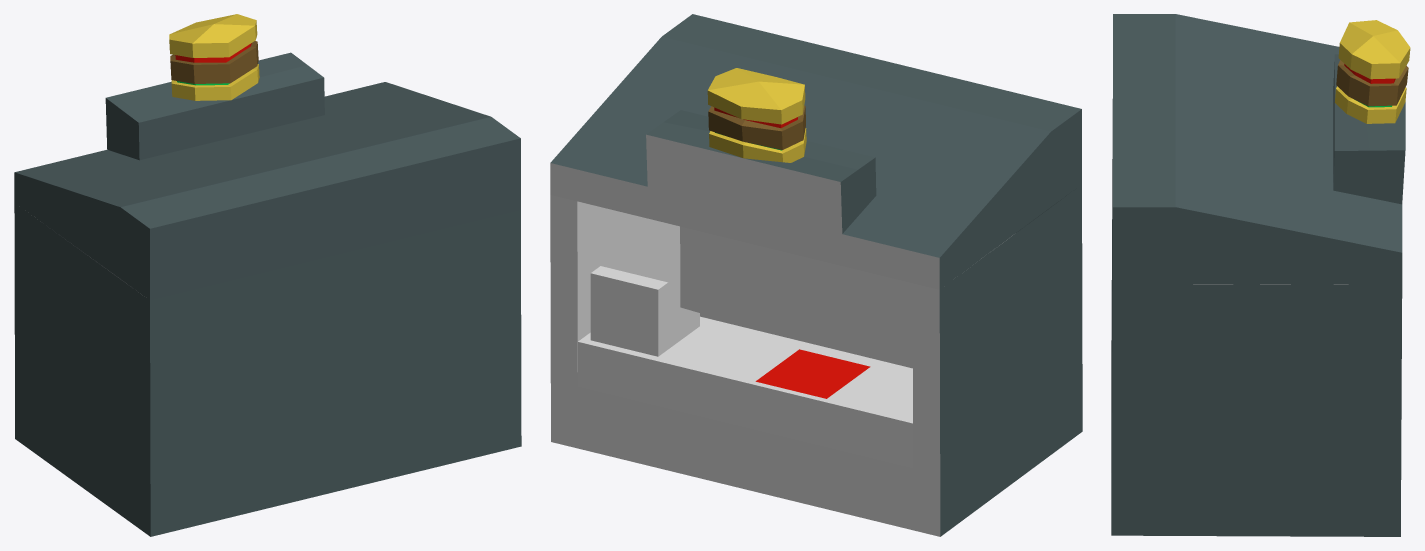
File: BurgerStand.fbx
3 renders of one model, left to right at view 1: azimuth 30°, elevation 25°; view 2: azimuth 150°, elevation 25°; view 3: azimuth 270°, elevation 25°, orthographic. The views are drawn at different scales.
Parts seen in each view (by area): view 1: Plane; view 2: Plane; view 3: Plane.
Part boxes in pixels (<box>): Plane: <box>14,14,521,536</box>; Plane: <box>550,14,1082,536</box>; Plane: <box>1111,14,1410,536</box>.
Size of the model in its own units: 602 by 587 by 393.
